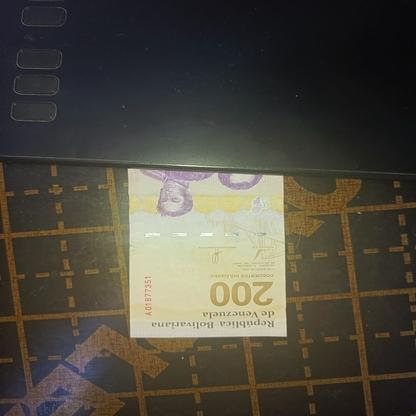two_hundred-front-vef: (128, 167, 288, 338)
